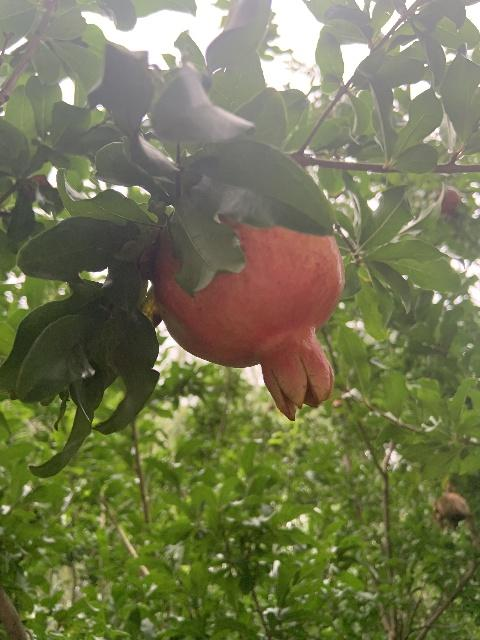ripe: (149, 215, 344, 420), (441, 188, 460, 218)
